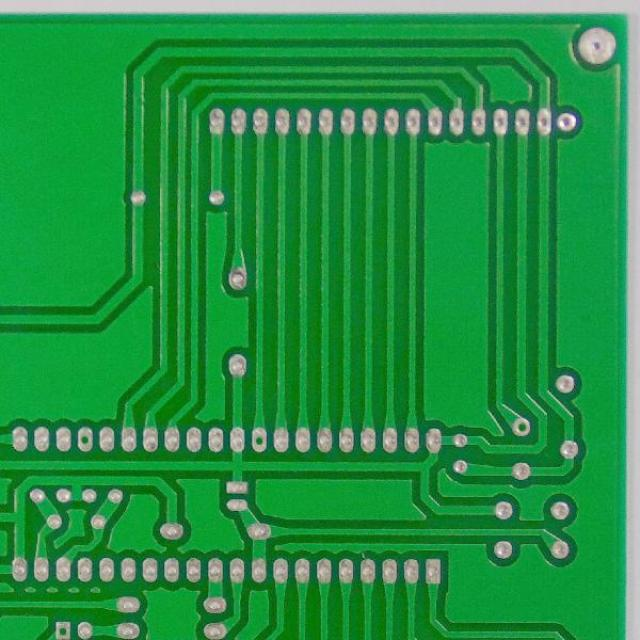Missing_Hole: (509, 413, 533, 437), (74, 427, 95, 452), (250, 426, 268, 453), (51, 618, 73, 639)
